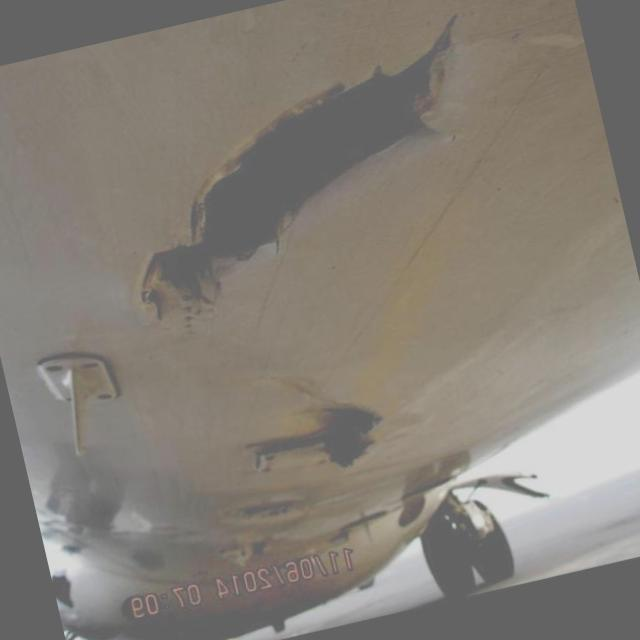crack: (140, 18, 455, 311), (242, 401, 383, 475)
dent: (47, 452, 151, 531)
